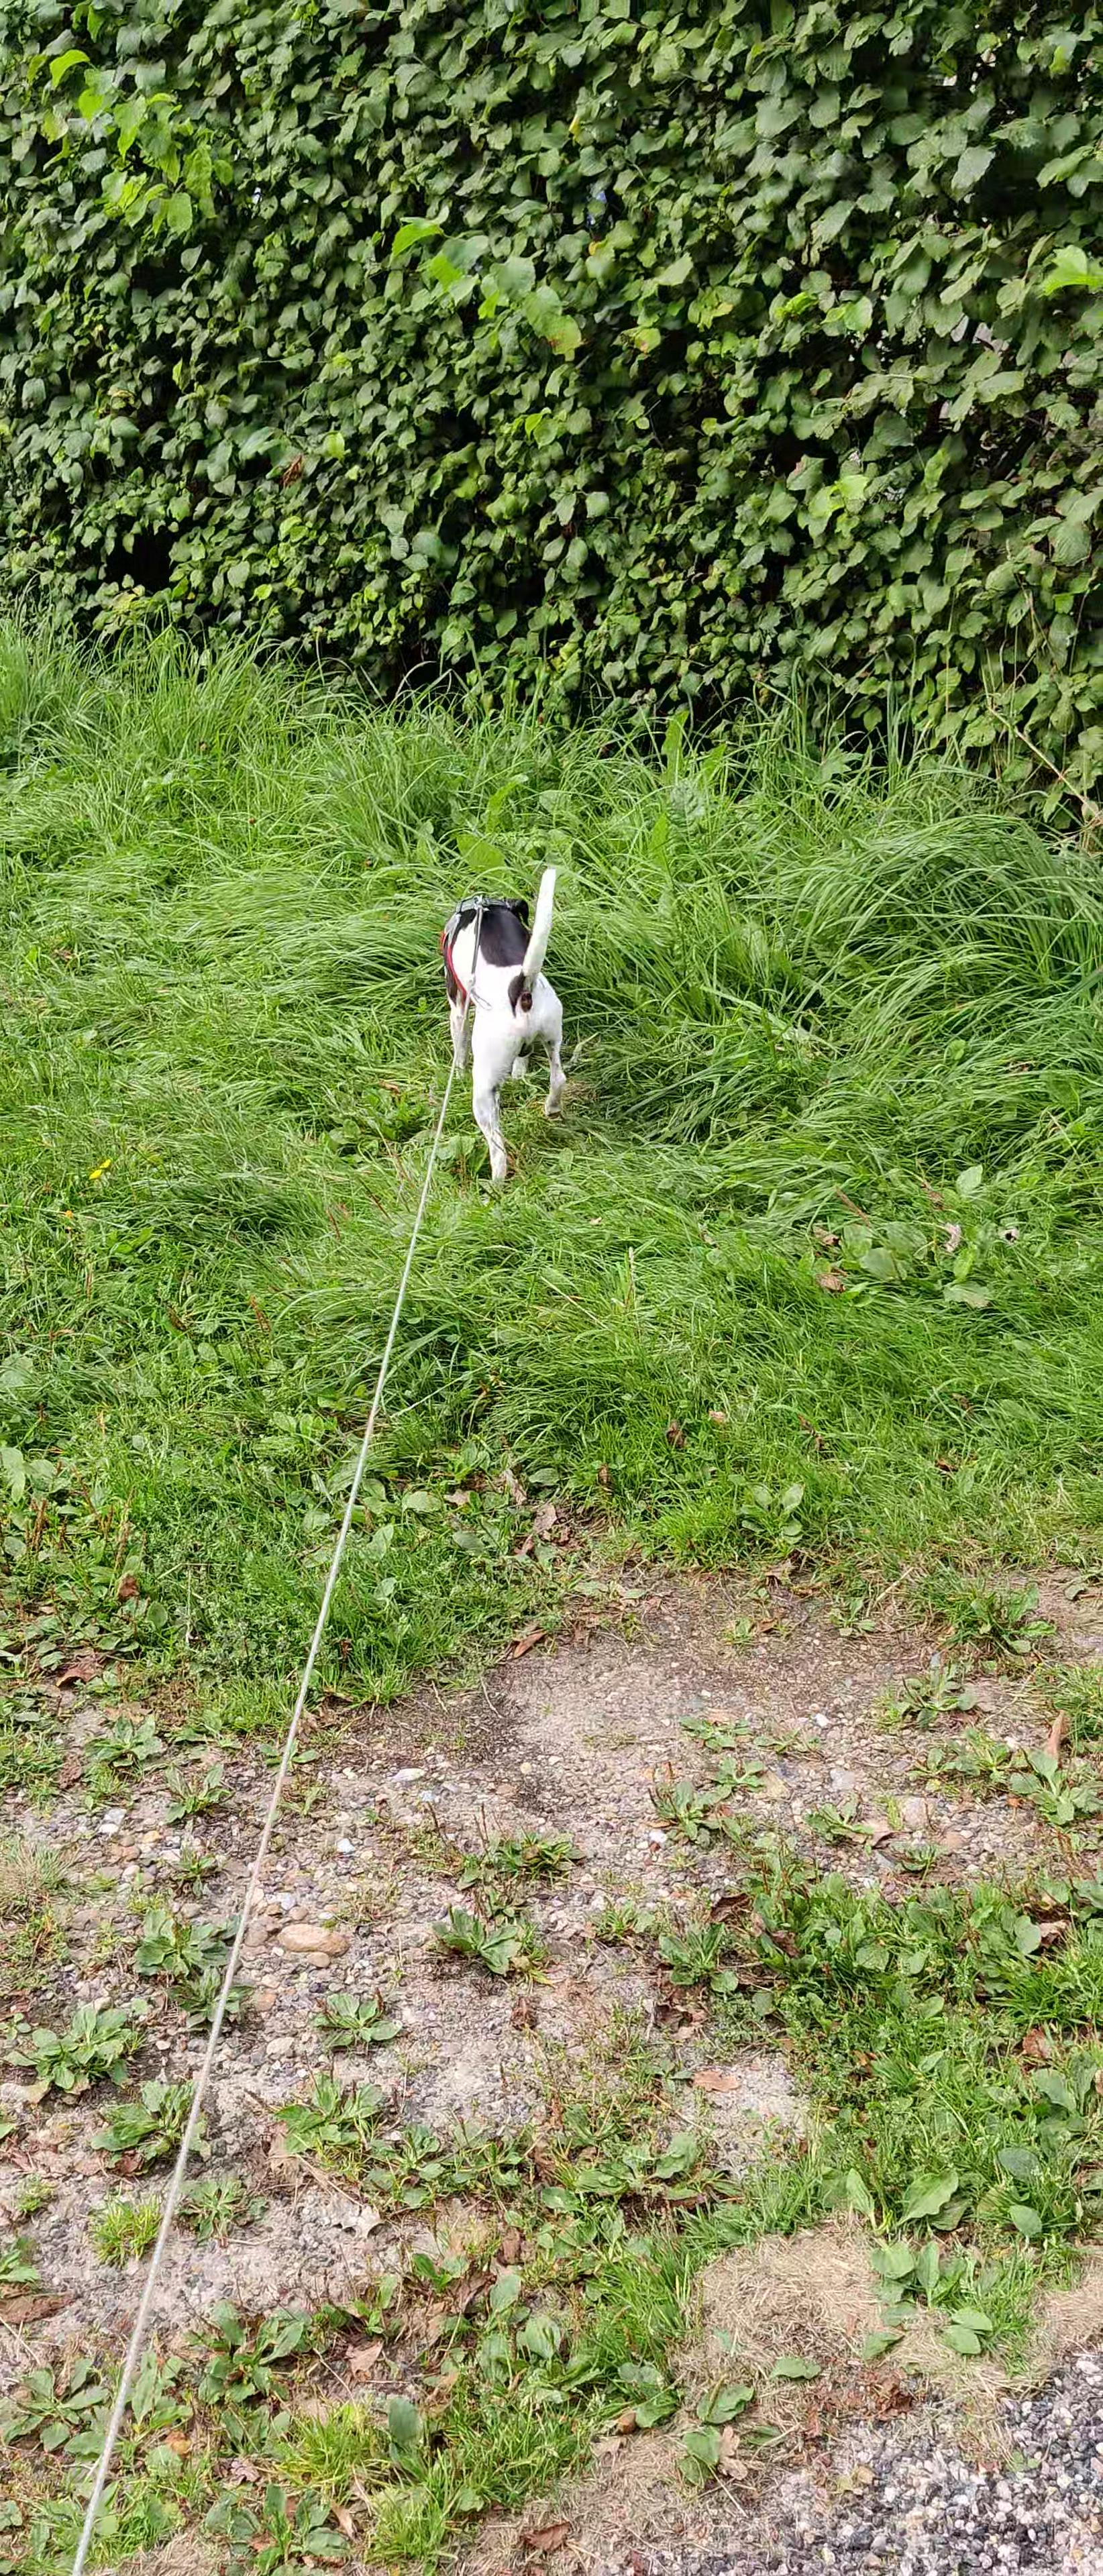Dog: (418, 856, 587, 1193)
